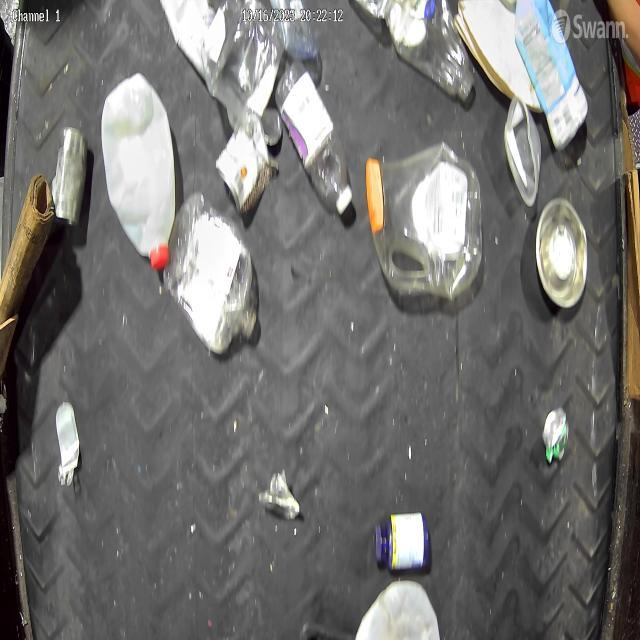can: (215, 110, 279, 216), (52, 126, 89, 227), (542, 407, 570, 463)
milk_jug: (101, 72, 177, 270)
non_white_jug: (366, 140, 484, 304), (514, 0, 588, 152)
plastic_bottle: (275, 61, 353, 214)
